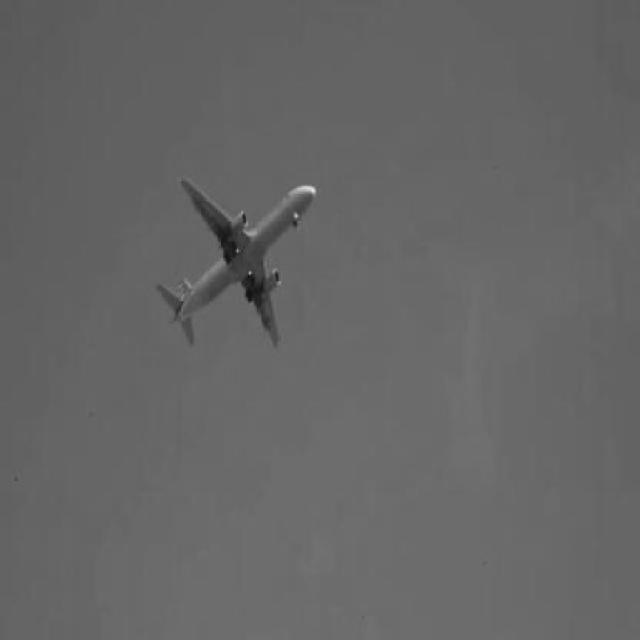aeroplane: (156, 180, 316, 349)
